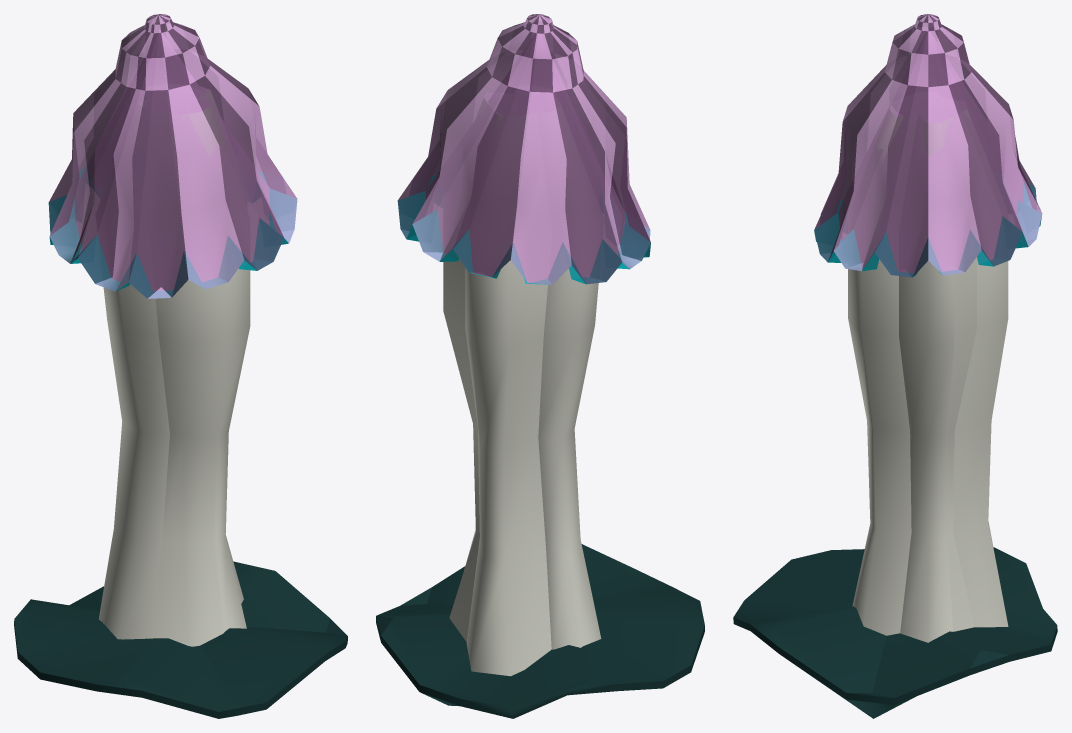
The model's file is Mushroom4.fbx.
3 views of the same model, side by side, from view 1: azimuth 30°, elevation 25°; view 2: azimuth 150°, elevation 25°; view 3: azimuth 270°, elevation 25° (orthographic). The views are drawn at different scales.
Visible parts, largest first — view 1: big_sharp_mushroom_geo, petal_geo; view 2: big_sharp_mushroom_geo, petal_geo; view 3: big_sharp_mushroom_geo, petal_geo.
Boxes of the visible parts, box(x1,y1,x2,y2) form: big_sharp_mushroom_geo: box(48, 14, 297, 646); petal_geo: box(14, 561, 347, 718); big_sharp_mushroom_geo: box(397, 14, 650, 676); petal_geo: box(376, 544, 704, 718); big_sharp_mushroom_geo: box(814, 14, 1042, 642); petal_geo: box(733, 547, 1057, 718).
Size of the model in its own units: 7.67 by 16.77 by 7.71.
